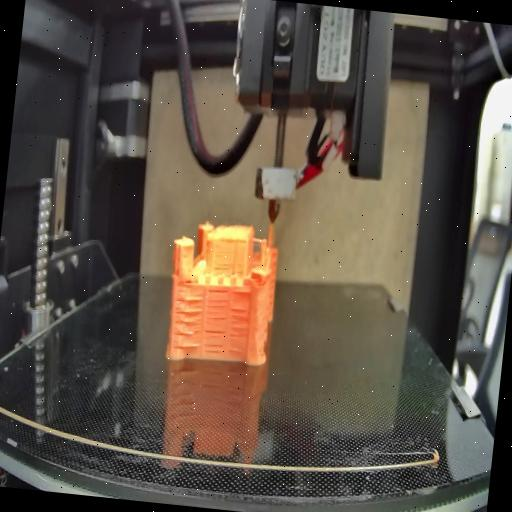cracks: (202, 290, 230, 356), (226, 285, 252, 356), (171, 294, 205, 348), (215, 260, 232, 274), (178, 276, 196, 288)
